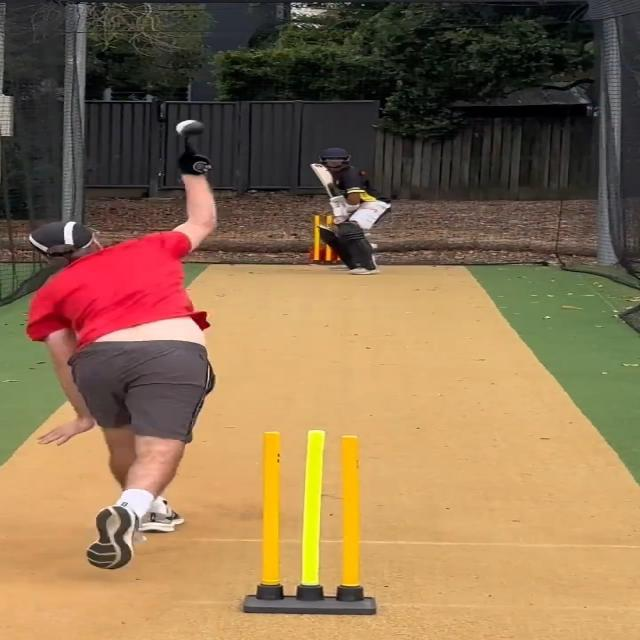stump: (237, 429, 380, 614)
